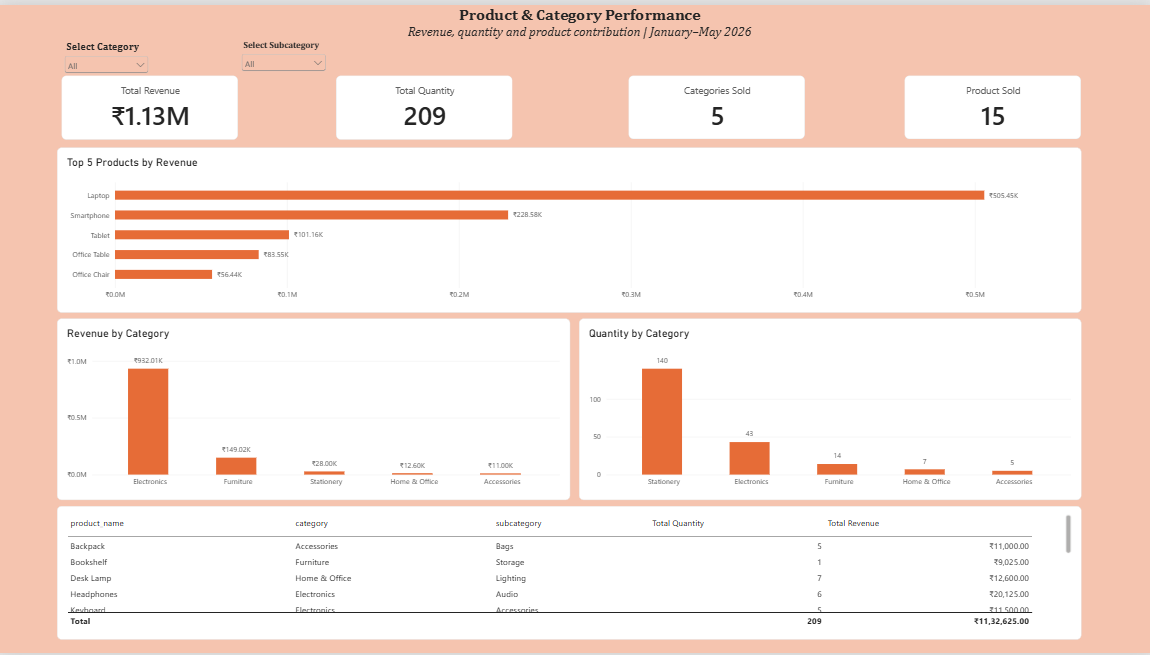

The dashboard page shown, as its layout file describes it:
{"tool":"powerbi","page":{"name":"Product Analysis","canvas":[1920,1080],"ordinal":2},"visuals":[{"type":"textbox","box":[11.6,0,1906.5,75.3],"z":0},{"type":"cardVisual","fields":{"Data":["sales.Total Revenue"]},"box":[103.2,117.9,294.7,107.4],"z":1000},{"type":"cardVisual","fields":{"Data":["sales.Total Quantity"]},"box":[560,117.9,294.7,107.4],"z":2000},{"type":"cardVisual","fields":{"Data":["sales.Categories Sold"]},"box":[1046.3,117.9,294.7,106.3],"z":3000},{"type":"cardVisual","fields":{"Data":["sales.Product Sold"]},"box":[1508.4,117.9,294.7,106.3],"z":4000},{"type":"clusteredBarChart","title":"Top 5 Products by Revenue","fields":{"Category":["products.product_name"],"Y":["sales.Total Revenue"]},"box":[95.8,237.9,1707.5,275],"z":5000},{"type":"clusteredColumnChart","title":"Revenue by Category","fields":{"Category":["products.category"],"Y":["sales.Total Revenue"]},"box":[95,522.5,855,302.5],"z":6000},{"type":"clusteredColumnChart","title":"Quantity by Category","fields":{"Category":["products.category"],"Y":["sales.Total Quantity"]},"box":[965,522.5,837.5,302.5],"z":7000},{"type":"tableEx","fields":{"Values":["products.product_name","products.category","products.subcategory","sales.Total Quantity","sales.Total Revenue"]},"box":[95,835,1707.5,222.5],"z":8000},{"type":"slicer","fields":{"Values":["products.category"]},"box":[103.2,56.8,149.5,61.1],"z":9000},{"type":"slicer","fields":{"Values":["products.subcategory"]},"box":[397.9,56.8,150.5,53.7],"z":10000}]}

Visuals, with their boxes in screenshot pixels (x1, y1, x2, y2), scaled from the page's 1920x1080 canvas onto the 1150x655 screenshot:
textbox: select_region(7, 0, 1149, 46)
cardVisual - sales.Total Revenue: select_region(62, 72, 238, 137)
cardVisual - sales.Total Quantity: select_region(335, 72, 512, 137)
cardVisual - sales.Categories Sold: select_region(627, 72, 803, 136)
cardVisual - sales.Product Sold: select_region(903, 72, 1080, 136)
"Top 5 Products by Revenue" clusteredBarChart: select_region(57, 144, 1080, 311)
"Revenue by Category" clusteredColumnChart: select_region(57, 317, 569, 500)
"Quantity by Category" clusteredColumnChart: select_region(578, 317, 1080, 500)
tableEx - products.product_name x products.category: select_region(57, 506, 1080, 641)
slicer - products.category: select_region(62, 34, 151, 72)
slicer - products.subcategory: select_region(238, 34, 328, 67)
